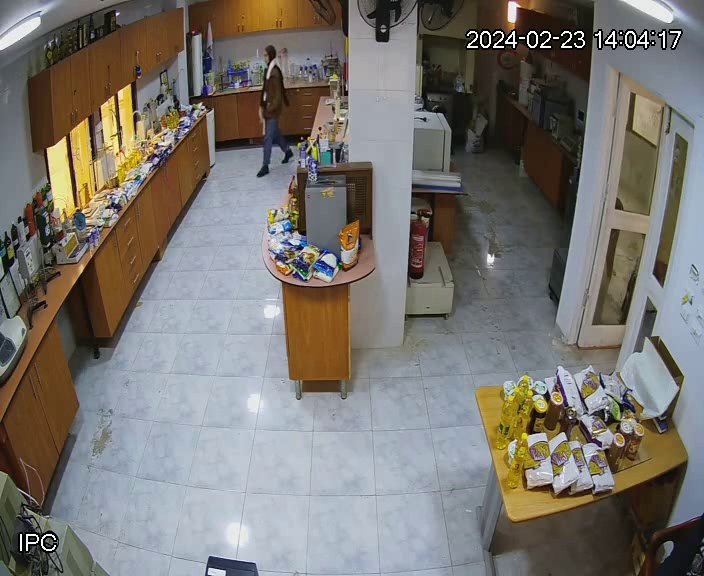Stealing: (256, 44, 293, 178)
